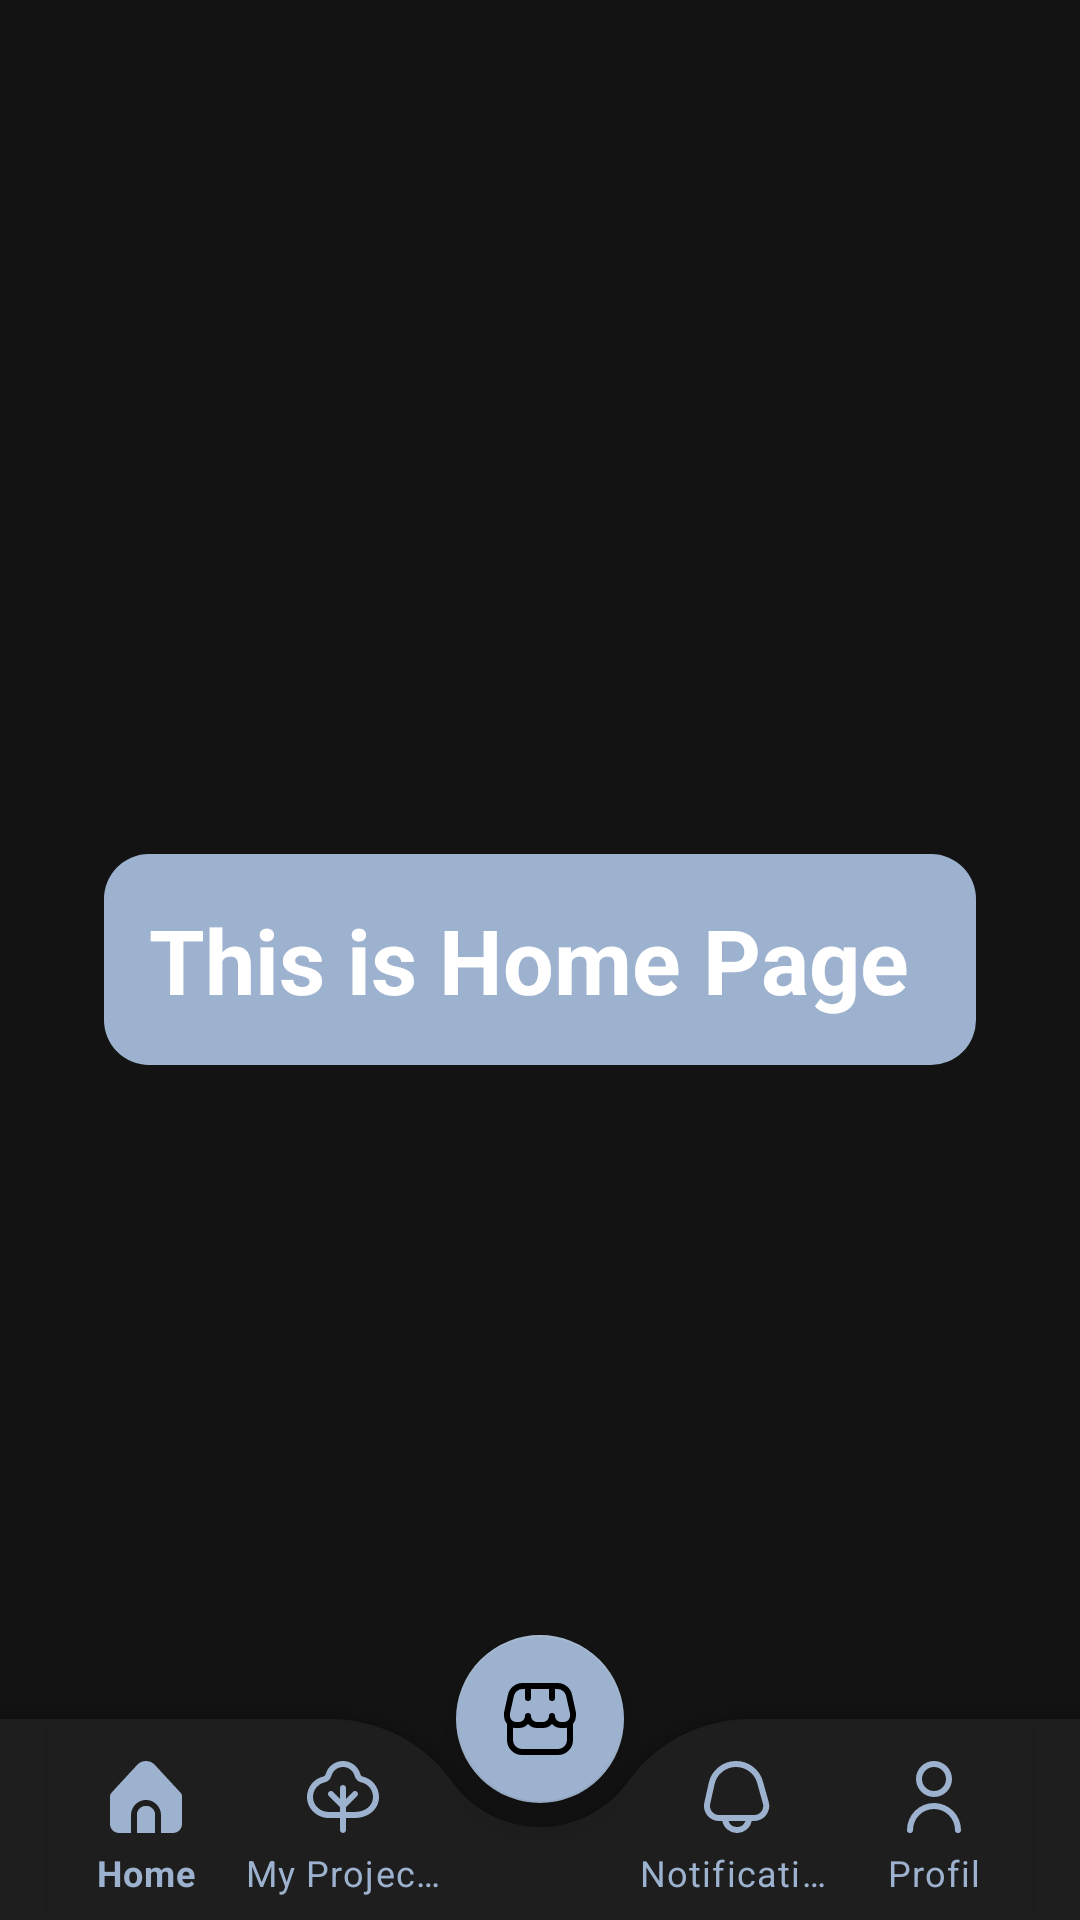

Point at icon controls on the screen. Image size 1080x1920, points as (x=x, y=y).
shop: (x=540, y=1719)
